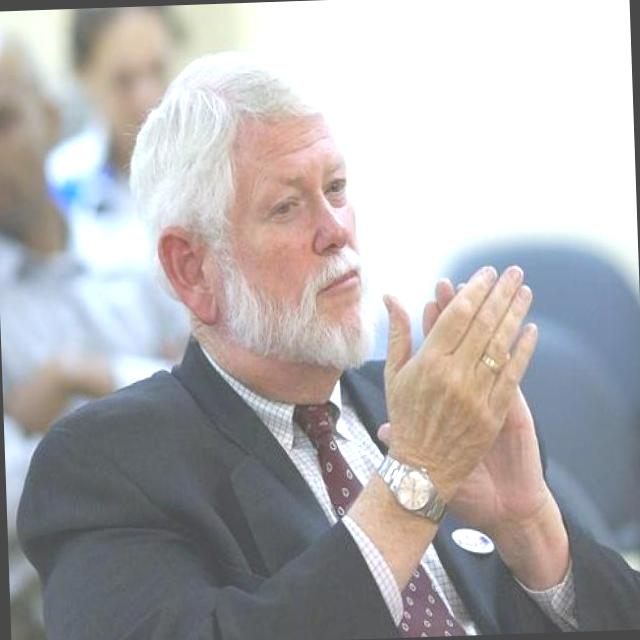no_vest: (9, 343, 582, 640)
